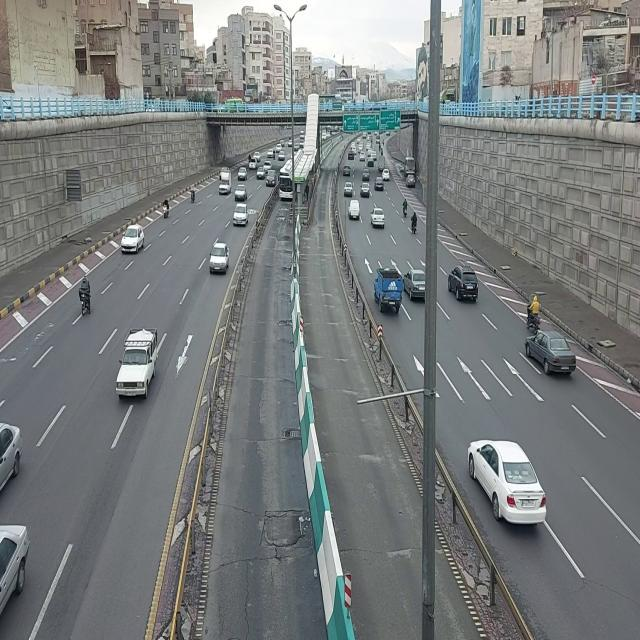Bus: (279, 159, 293, 201)
Car: (466, 435, 552, 532), (523, 324, 577, 378), (447, 262, 479, 302), (404, 264, 426, 302), (120, 223, 145, 255), (209, 241, 231, 275), (232, 201, 248, 227), (371, 208, 386, 230), (348, 199, 360, 222), (234, 183, 248, 202), (266, 169, 277, 188), (360, 182, 371, 200), (374, 176, 384, 193), (237, 166, 247, 183), (343, 182, 353, 198), (405, 174, 417, 187), (256, 166, 266, 181), (382, 168, 392, 182), (362, 169, 372, 182), (248, 157, 258, 169), (343, 164, 351, 178), (278, 150, 286, 163), (263, 159, 273, 169), (253, 151, 262, 162), (348, 148, 354, 161), (359, 151, 365, 163), (267, 148, 273, 160), (367, 157, 374, 167)
Motorcycle: (526, 291, 541, 335), (78, 275, 92, 319), (412, 210, 419, 236), (163, 199, 171, 219), (191, 181, 197, 207), (403, 195, 409, 219), (273, 149, 277, 161), (381, 147, 385, 157)
Pickup: (113, 324, 159, 403), (373, 265, 405, 315), (219, 172, 233, 198), (378, 155, 386, 173)
